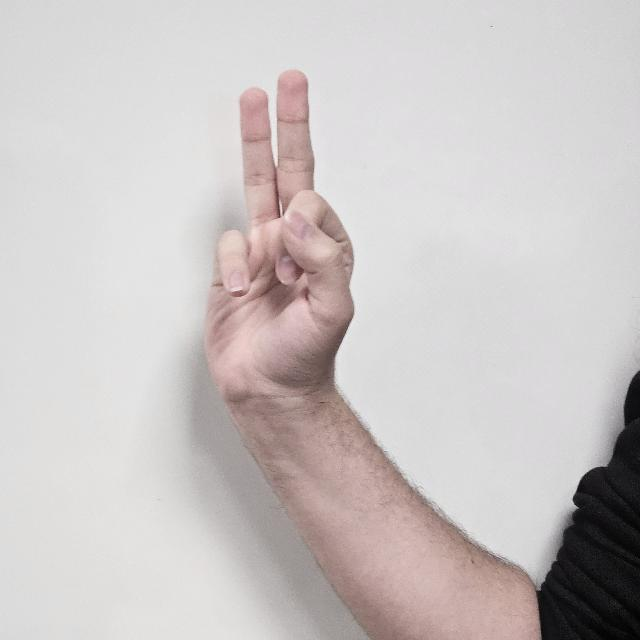R: (209, 72, 355, 420)
